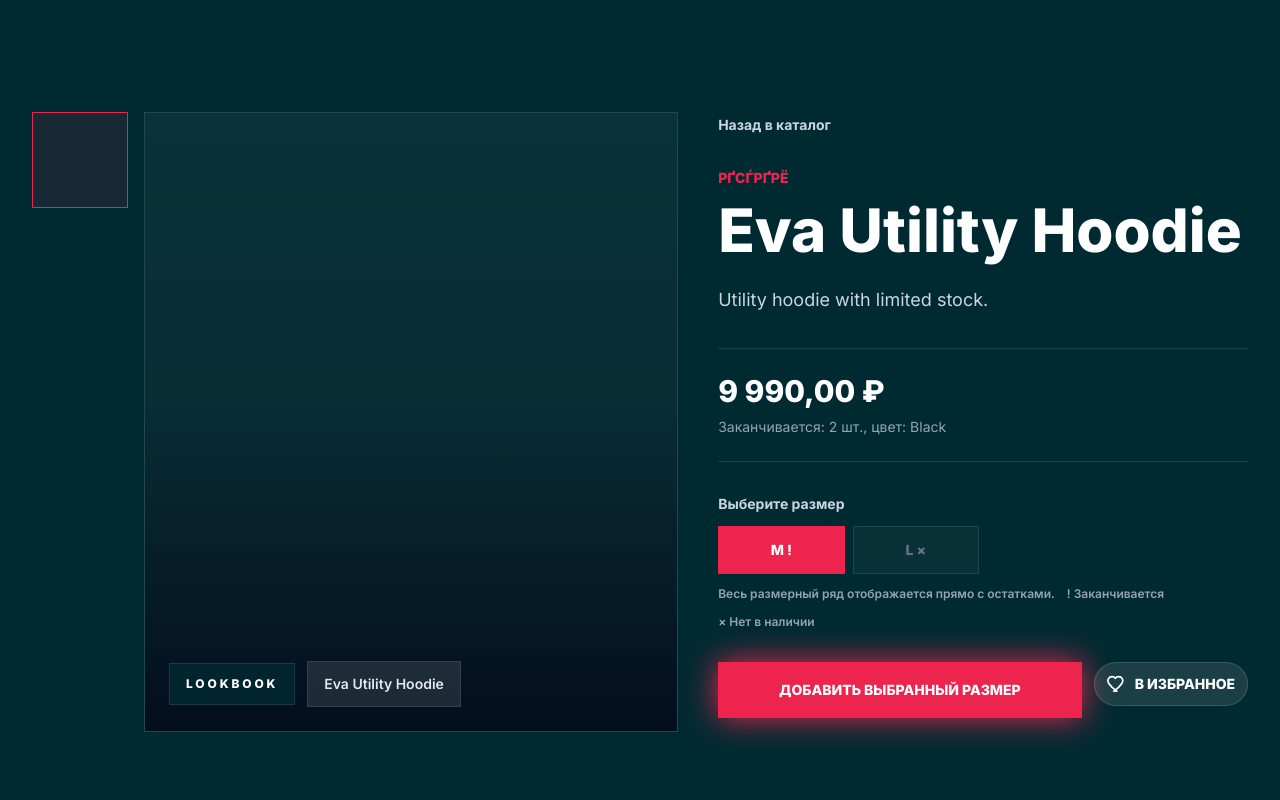
Test case: ProductDetailPage › shows sold-out sizes in the selector and disables purchase for them
The width and height of the screenshot is (1280, 800).
Expected: the text "Заканчивается: 2 шт., цвет: Black" is shown, [718, 418, 946, 435]
Click the button named "размер l, нет в наличии".
click(916, 550)  # box [853, 526, 979, 574]
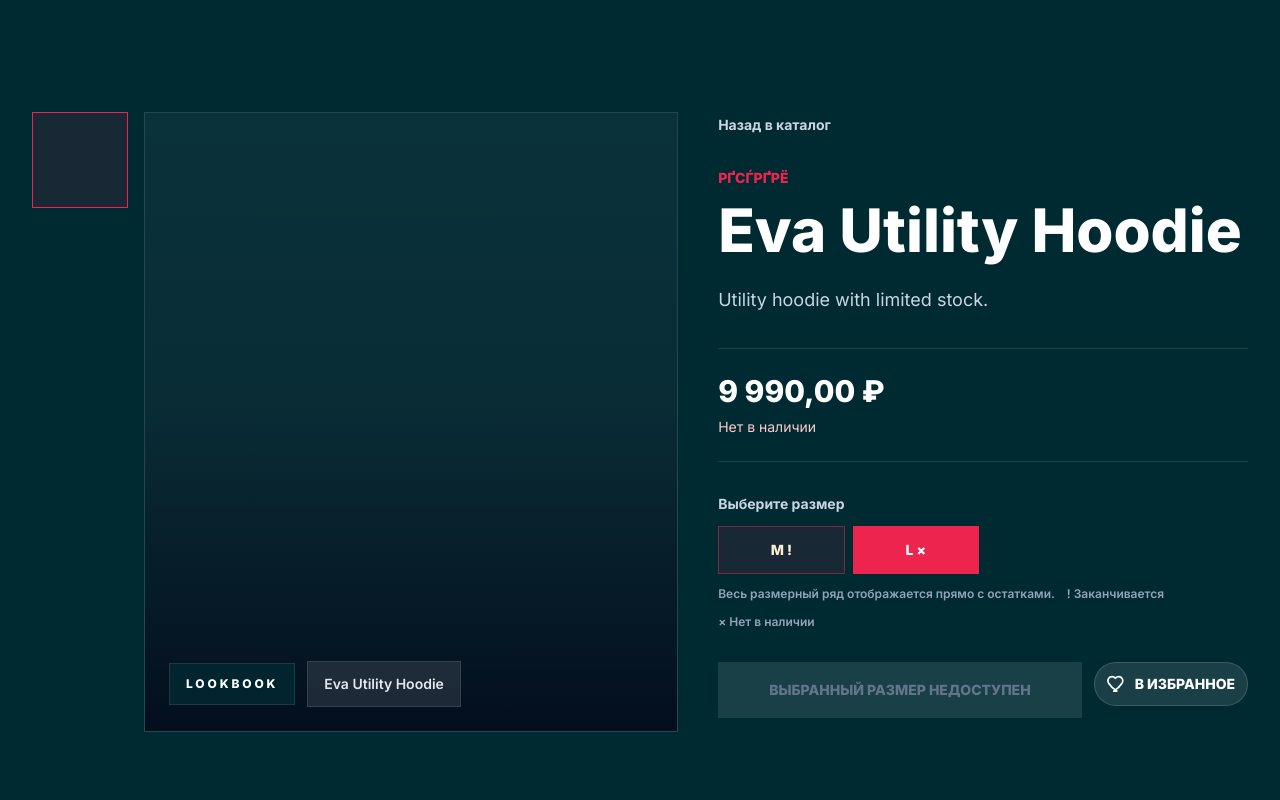
Result: the text "Нет в наличии" is shown at [718, 418, 816, 435]
Result: the button "Выбранный размер недоступен" is disabled at [718, 662, 1082, 718]
